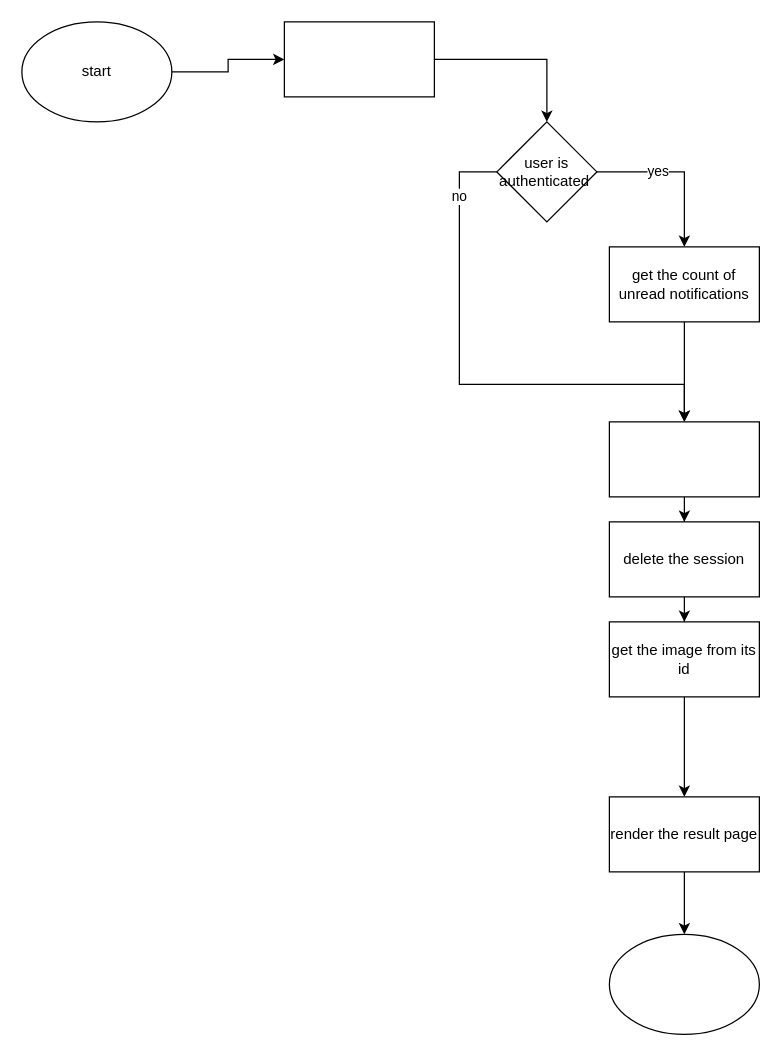
Some shapes in this 781 by 1056 pixel diagram are drawn without their labels. Each missing label, with the centre of its shape:
end: point (683, 983)
fetch reqeust: point (358, 59)
get the leaf id from the session: point (683, 459)
